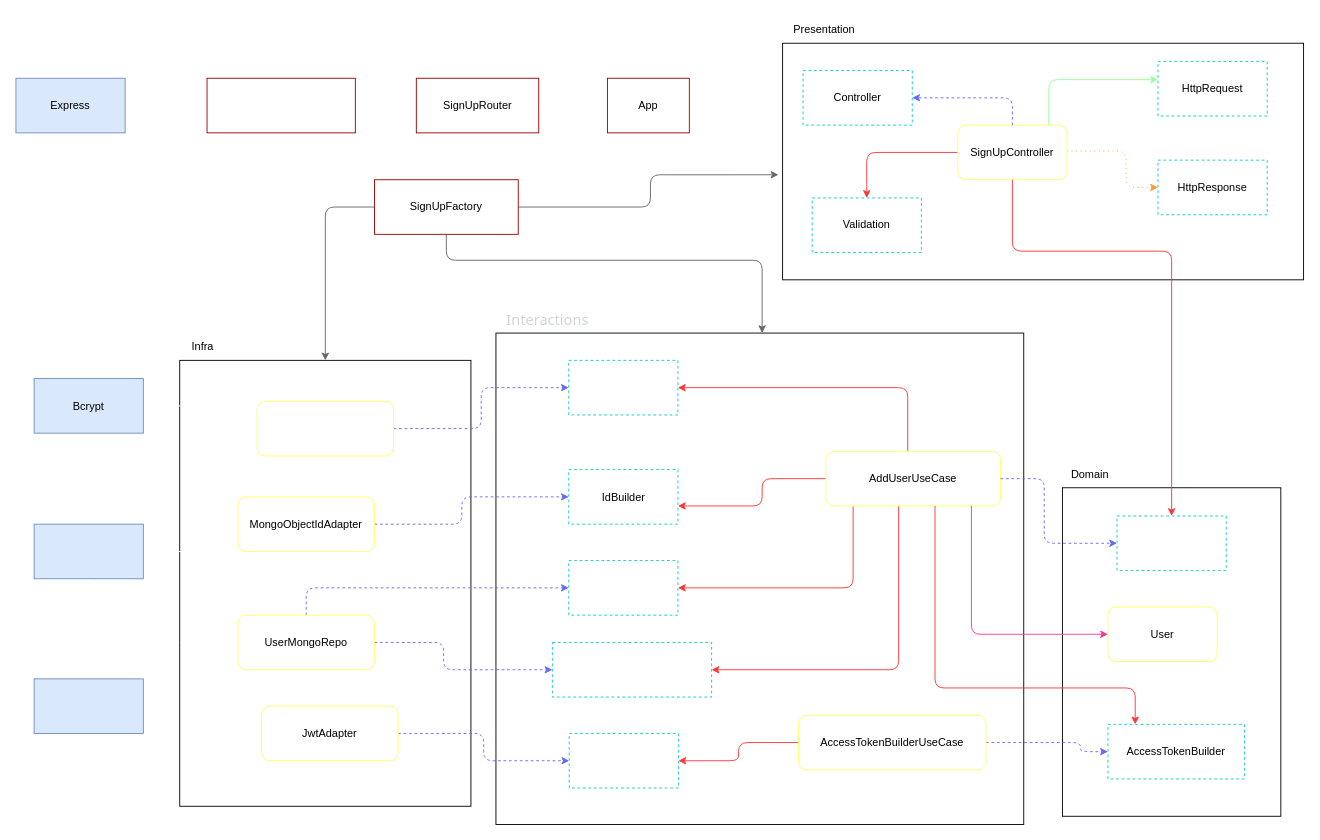
Image size: 1320x840. Some labels were removed from this diagram. The shapes that lost their labels are listed below. From the top down, each one's centre as x and y in pixels, then its label:
pixel 280 105: ExpressRouterAdapter
pixel 623 387: Hasher
pixel 325 428: BcryptAdapter
pixel 88 551: MongoDb
pixel 1171 543: AddUser
pixel 623 587: AddUserRepo
pixel 631 669: LoadUserByEmailRepo
pixel 88 705: Jwt
pixel 623 760: Encrypter
